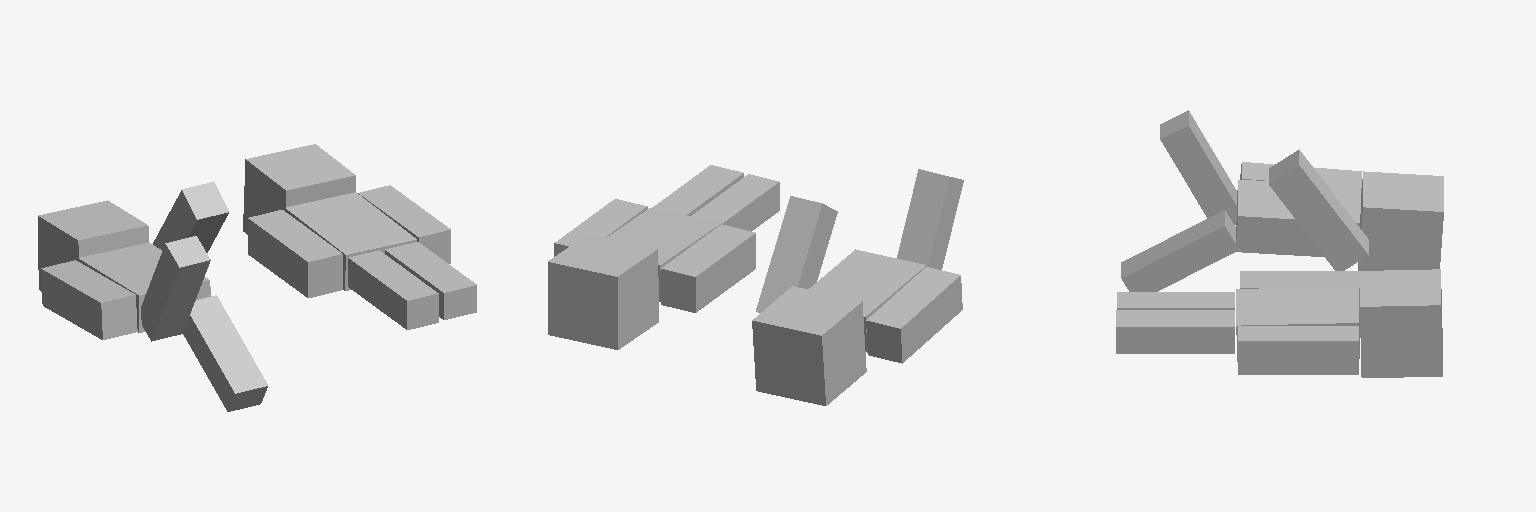
File: steve_000017.obj
The picture shows the model from 3 angles: view 1: azimuth 30°, elevation 25°; view 2: azimuth 150°, elevation 25°; view 3: azimuth 270°, elevation 25°; orthographic projection.
Parts seen in each view (by area): view 1: Cube.001_Cube.002, Cube_Cube.001; view 2: Cube_Cube.001, Cube.001_Cube.002; view 3: Cube.001_Cube.002, Cube_Cube.001.
Boxes of the visible parts, <box> form: Cube.001_Cube.002: <box>243,144,476,329</box>; Cube_Cube.001: <box>38,182,267,411</box>; Cube_Cube.001: <box>752,169,963,405</box>; Cube.001_Cube.002: <box>548,165,779,349</box>; Cube.001_Cube.002: <box>1116,269,1442,377</box>; Cube_Cube.001: <box>1121,110,1443,291</box>.
Size of the model in its own units: 6.55 by 2.85 by 5.36.